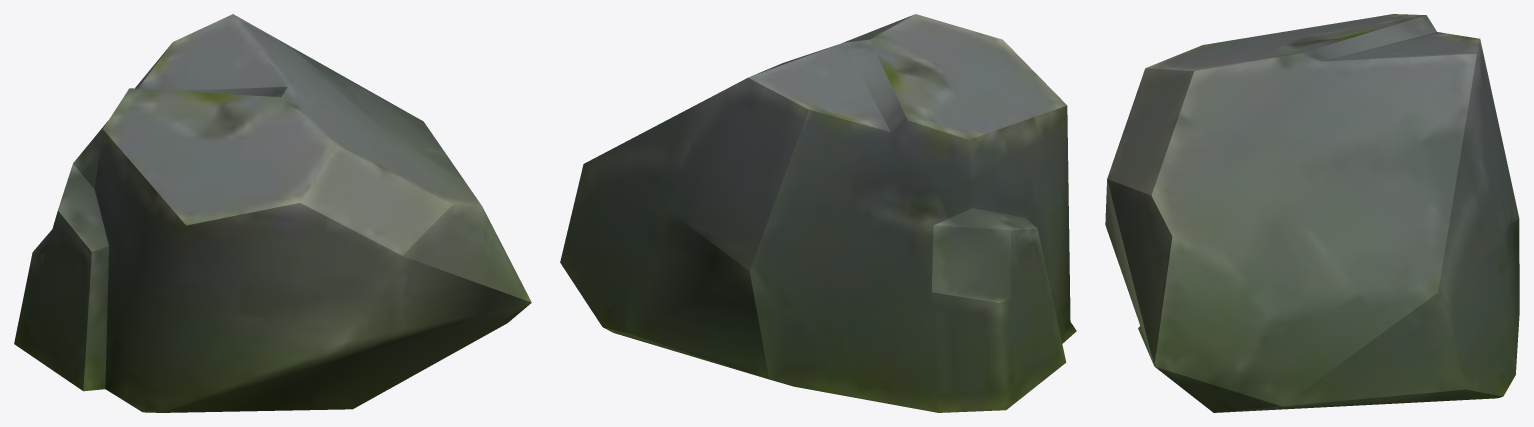
The model's file is rock_2.glb.
3 views of the same model, side by side, from view 1: azimuth 30°, elevation 25°; view 2: azimuth 150°, elevation 25°; view 3: azimuth 270°, elevation 25° (orthographic). The views are drawn at different scales.
Visible parts, largest first — view 1: Rock_Medium_2; view 2: Rock_Medium_2; view 3: Rock_Medium_2.
Part boxes in pixels (left/top/right/bottom): Rock_Medium_2: left=14, top=14, right=531, bottom=412; Rock_Medium_2: left=560, top=14, right=1076, bottom=412; Rock_Medium_2: left=1105, top=14, right=1519, bottom=412.
Size of the model in its own units: 3.04 by 1.87 by 2.39.
1 material, 1 textured.
